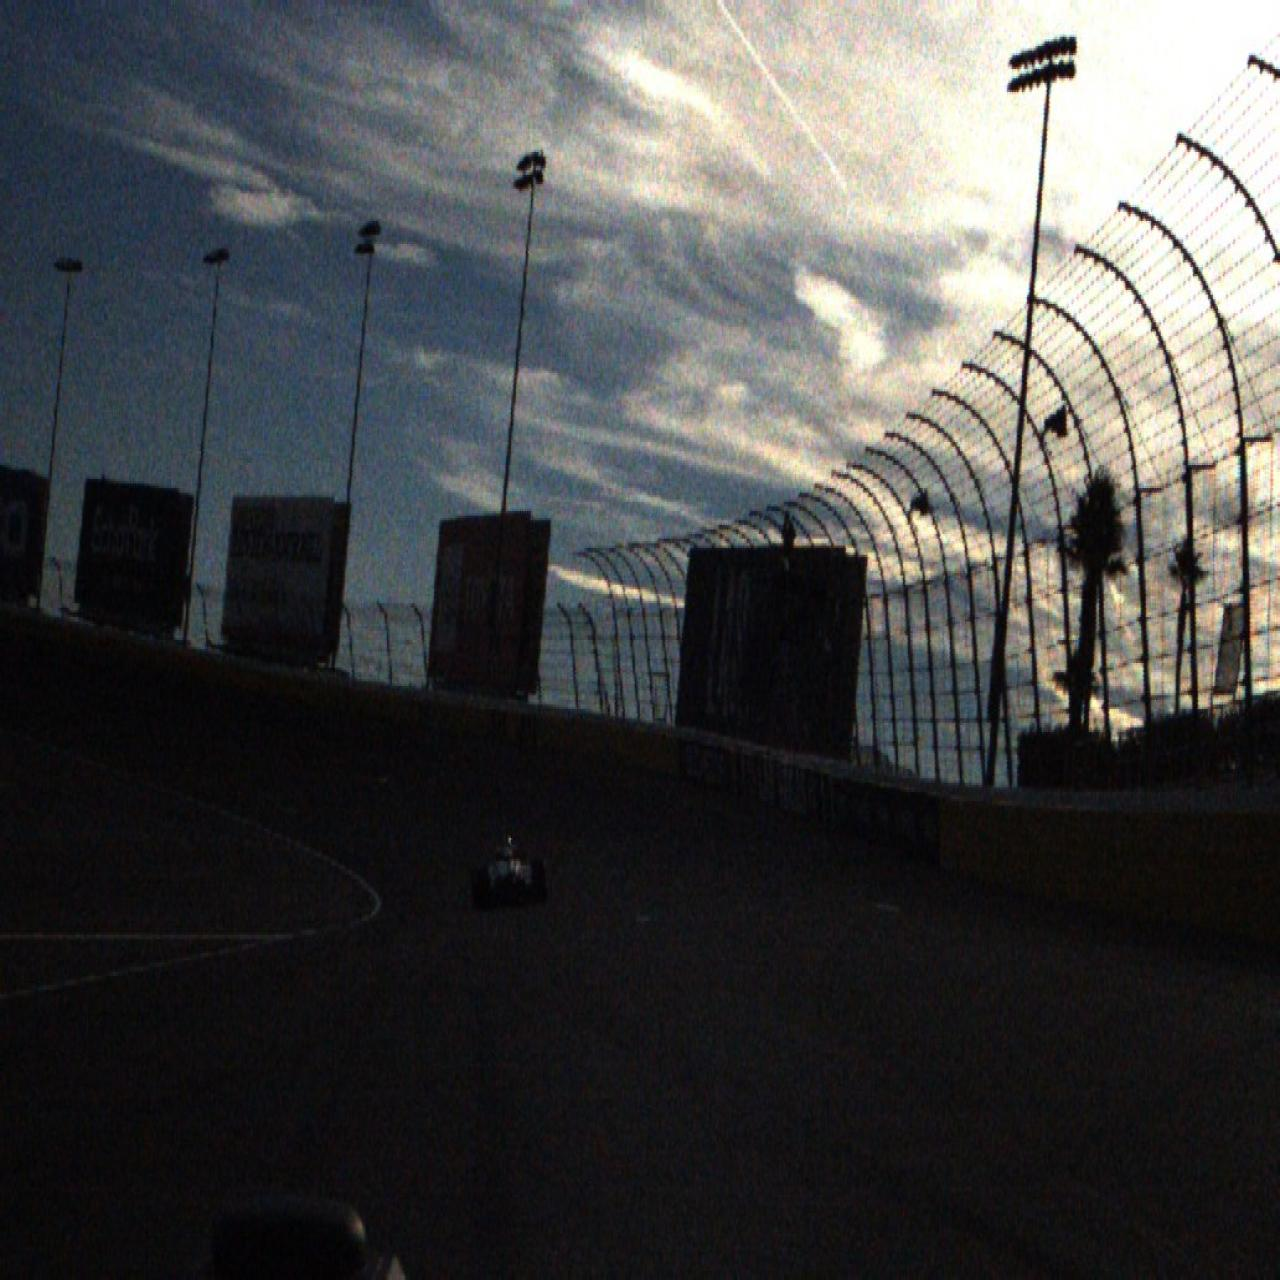AV: (470, 829, 547, 912)
Wheel: (474, 866, 489, 912), (533, 859, 546, 907)
